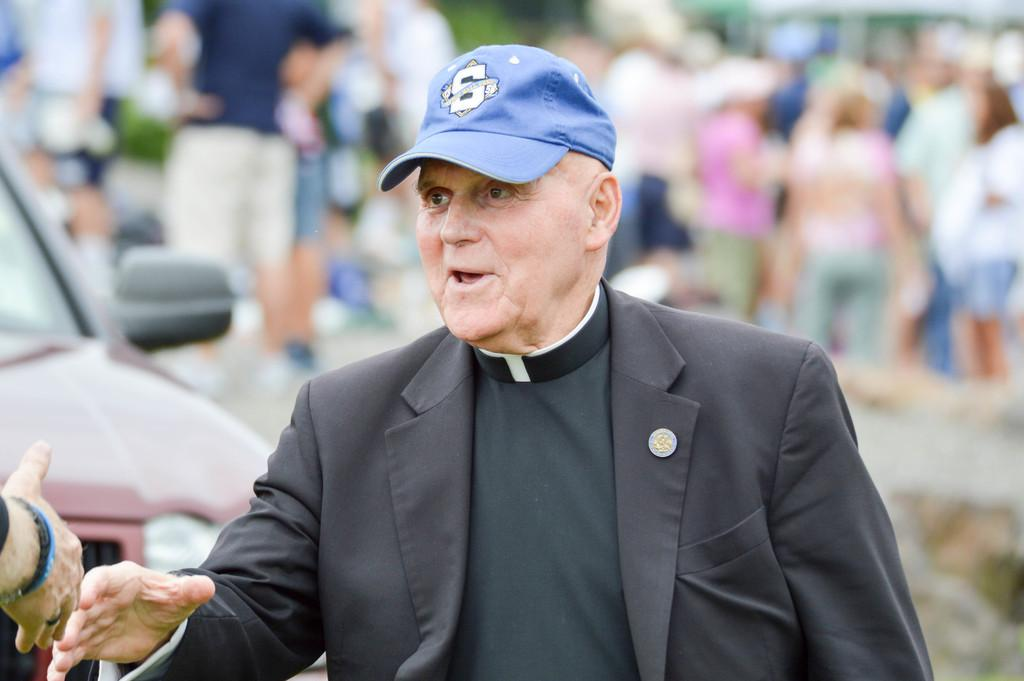Hat: (377, 45, 612, 192)
